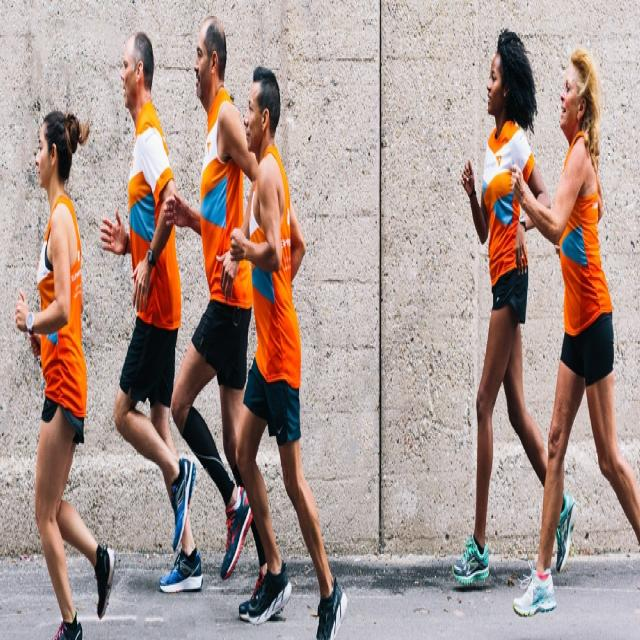body: (507, 42, 639, 624), (448, 20, 579, 598), (226, 56, 350, 638), (162, 10, 269, 623), (96, 24, 206, 600), (12, 101, 118, 638)
